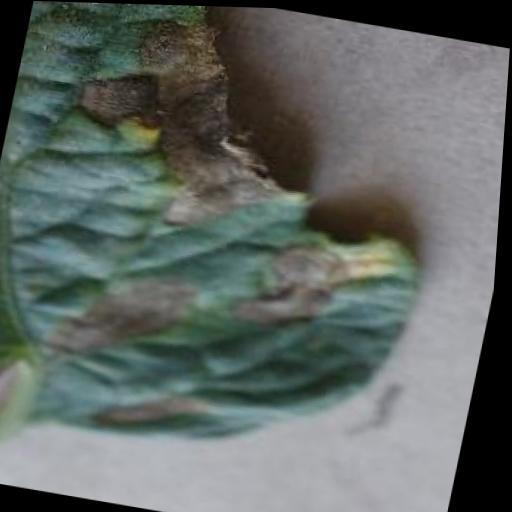Early Blight: (0, 0, 477, 485)
